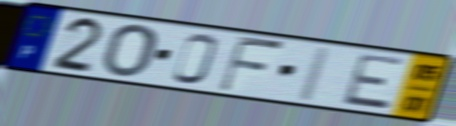0: (172, 33, 221, 86)
2: (49, 15, 108, 75)
E: (339, 52, 409, 113)
F: (215, 33, 288, 95)
I: (294, 44, 336, 104)
O: (100, 23, 159, 79)
